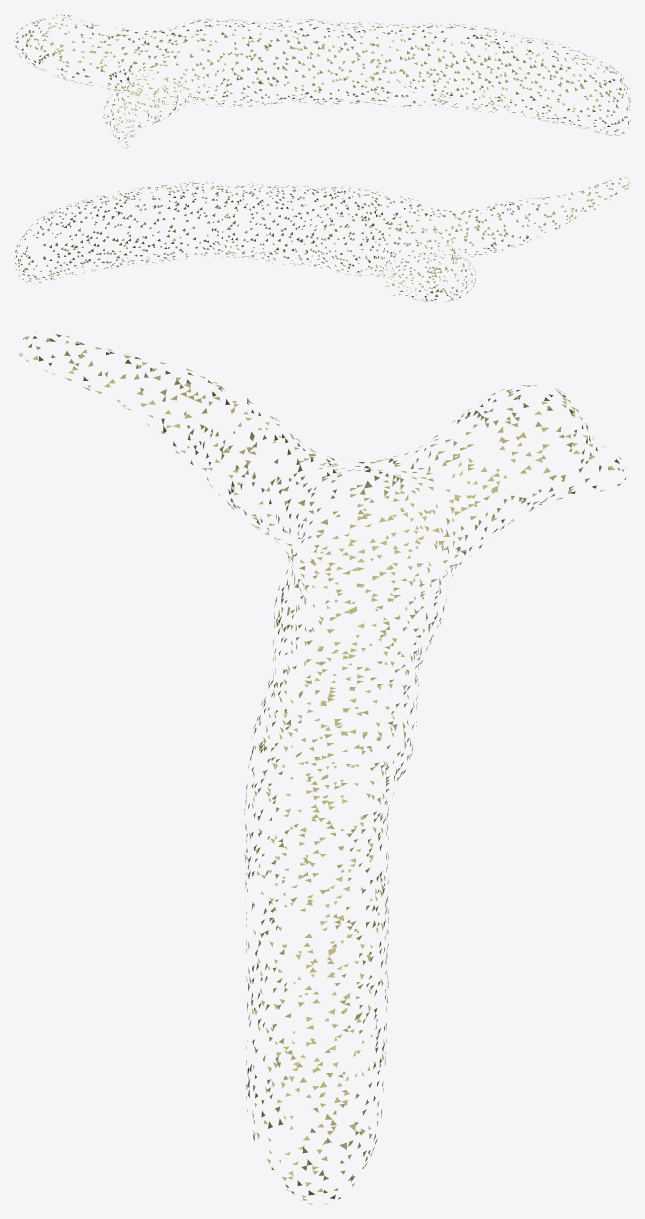
Rendered from morph_009.glb.
3 renders of one model, top to bottom at view 1: azimuth 30°, elevation 25°; view 2: azimuth 150°, elevation 25°; view 3: azimuth 270°, elevation 25°, orthographic. The views are drawn at different scales.
Bounding box in the file's own units: 126 × 40.56 × 61.63.
